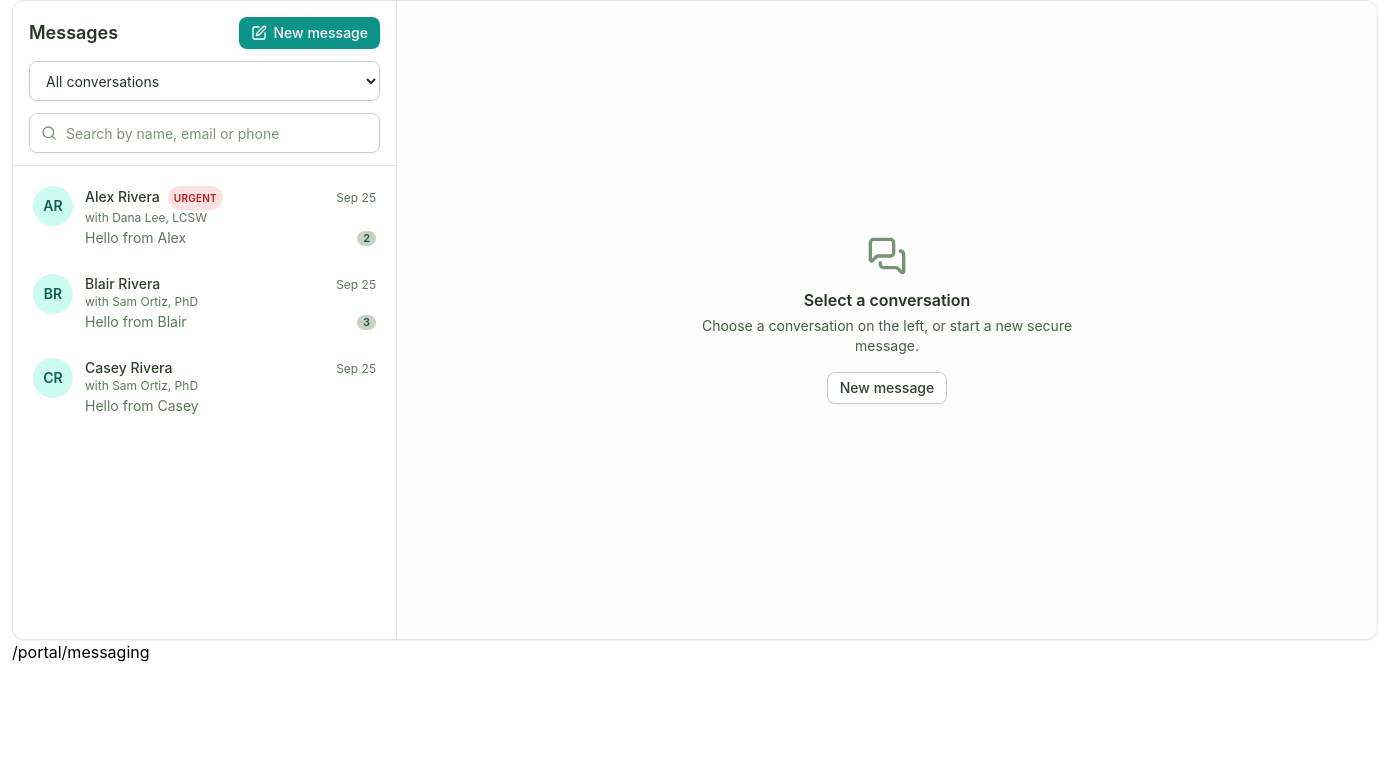
it: MessagesPage › searches conversations on the server
The width and height of the screenshot is (1378, 768).
Type "blair" into the search field named "Search conversations" at (204, 133), box [29,113,380,153]
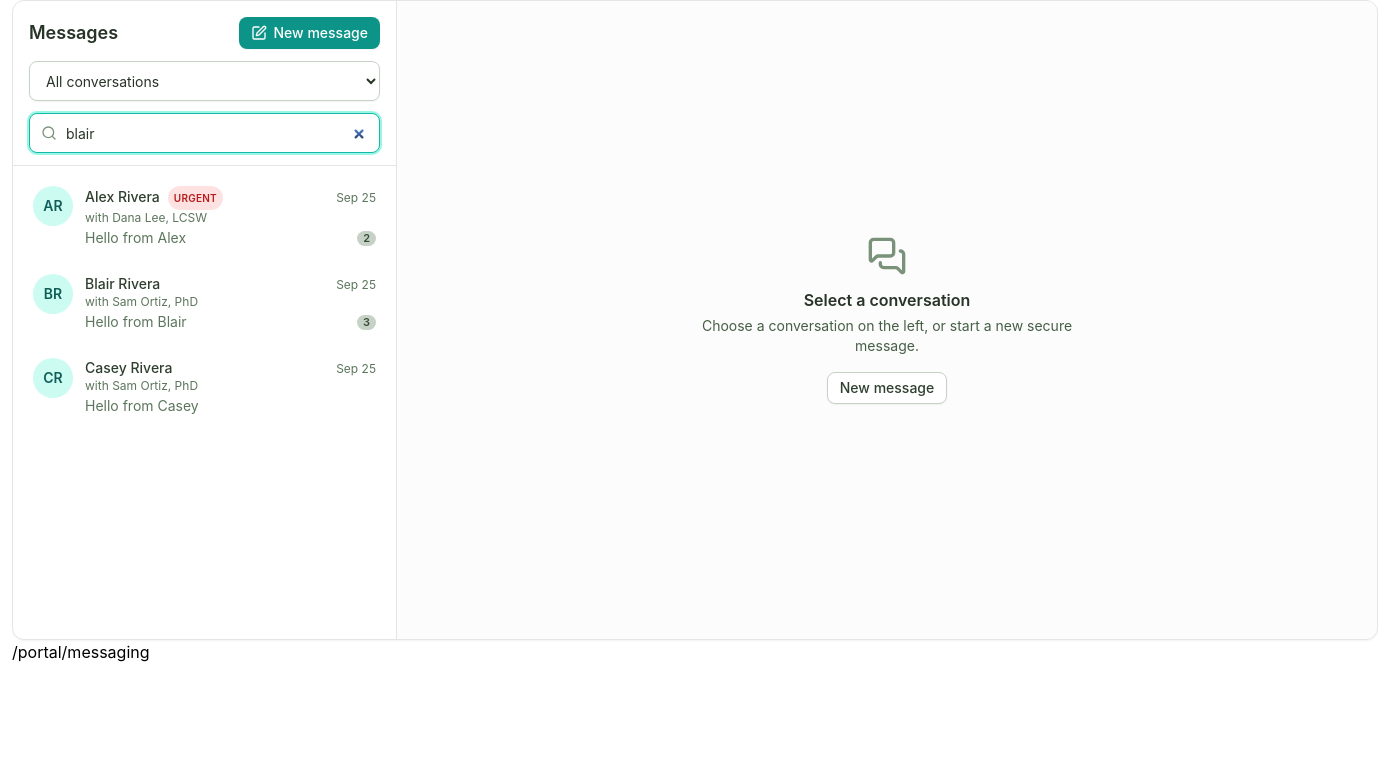
Replace the text in the search field named "Search conversations" with "nobody" at (204, 133), box [29,113,380,153]
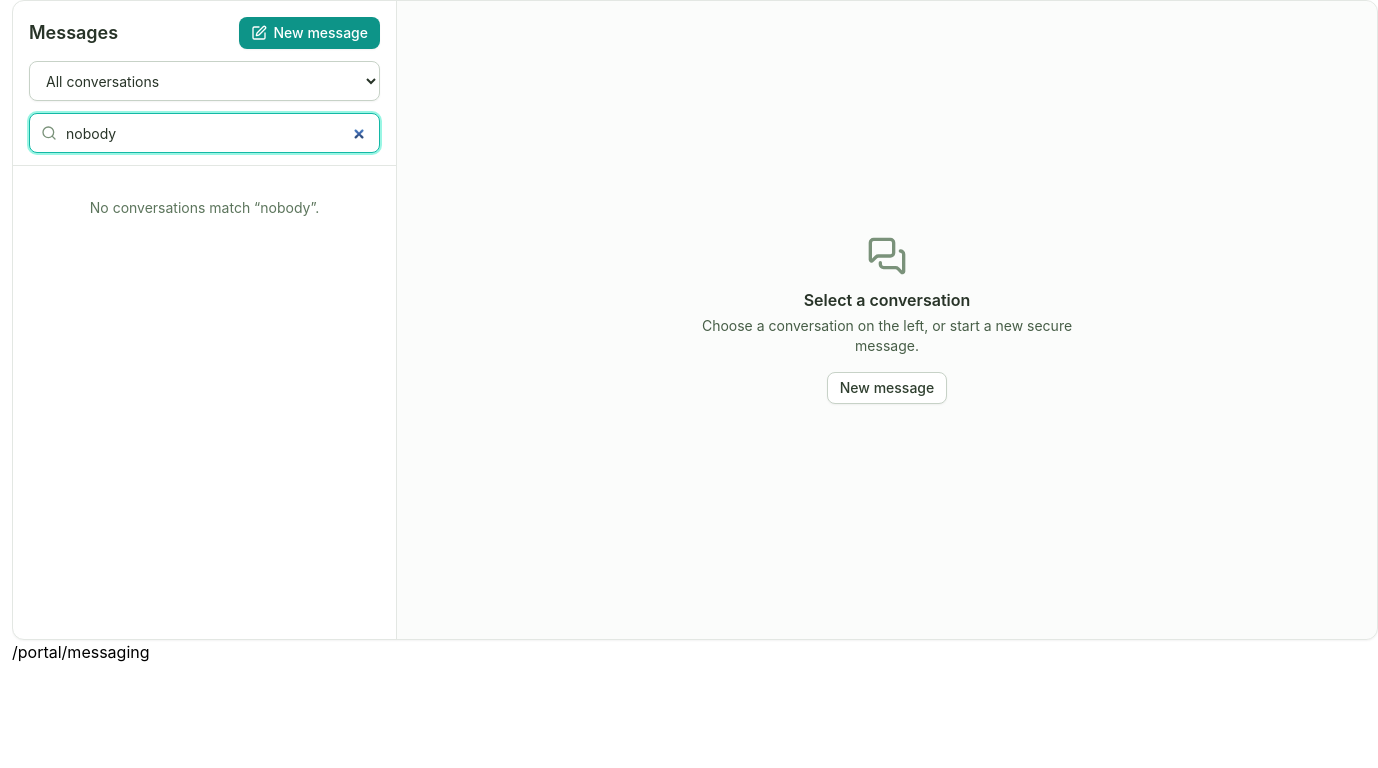
Result: the text "No conversations match “nobody”." is shown at [90,199,319,216]
